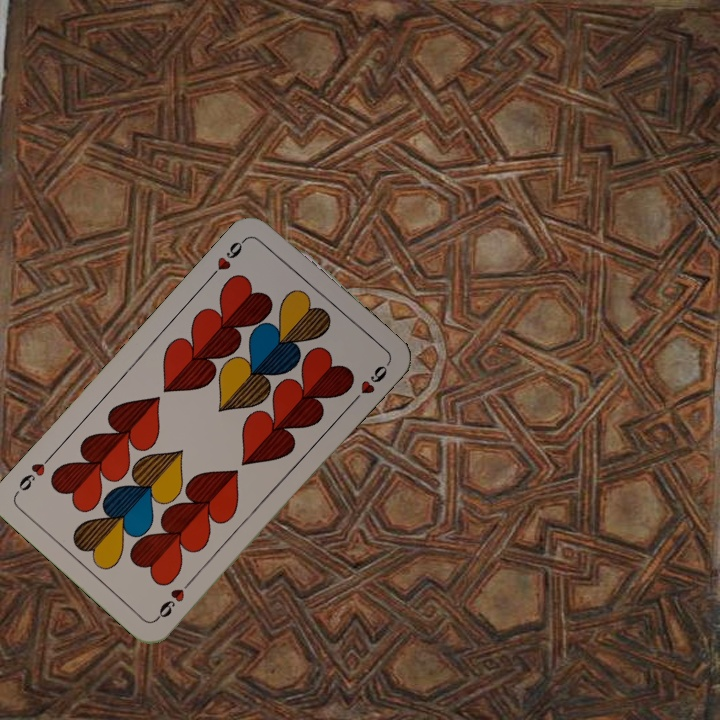H9: (152, 574, 196, 623), (206, 233, 250, 281)
